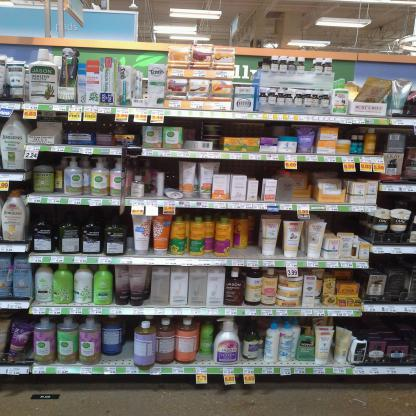Void: (224, 122, 287, 138), (330, 213, 366, 235), (376, 256, 414, 267)
